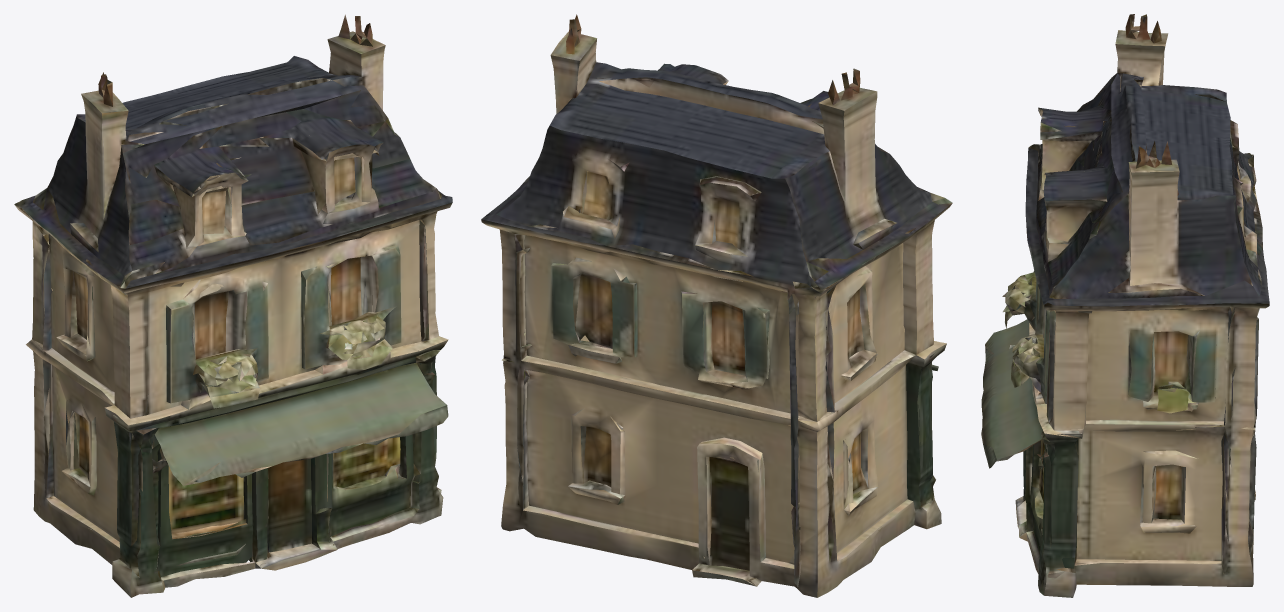
The picture shows the model from 3 angles, left to right: view 1: azimuth 30°, elevation 25°; view 2: azimuth 150°, elevation 25°; view 3: azimuth 270°, elevation 25°; orthographic projection. The views are drawn at different scales.
Parts seen in each view (by area): view 1: classic__shop_2__neural_lod; view 2: classic__shop_2__neural_lod; view 3: classic__shop_2__neural_lod.
Part boxes in pixels (box(x1,y1,x2,y2)): classic__shop_2__neural_lod: box(14, 14, 452, 597); classic__shop_2__neural_lod: box(481, 14, 952, 597); classic__shop_2__neural_lod: box(981, 14, 1269, 597).
Bounding box in the file's own units: 0.7545 × 0.9979 × 0.5803.
Materials: 1 (1 with a texture image).
